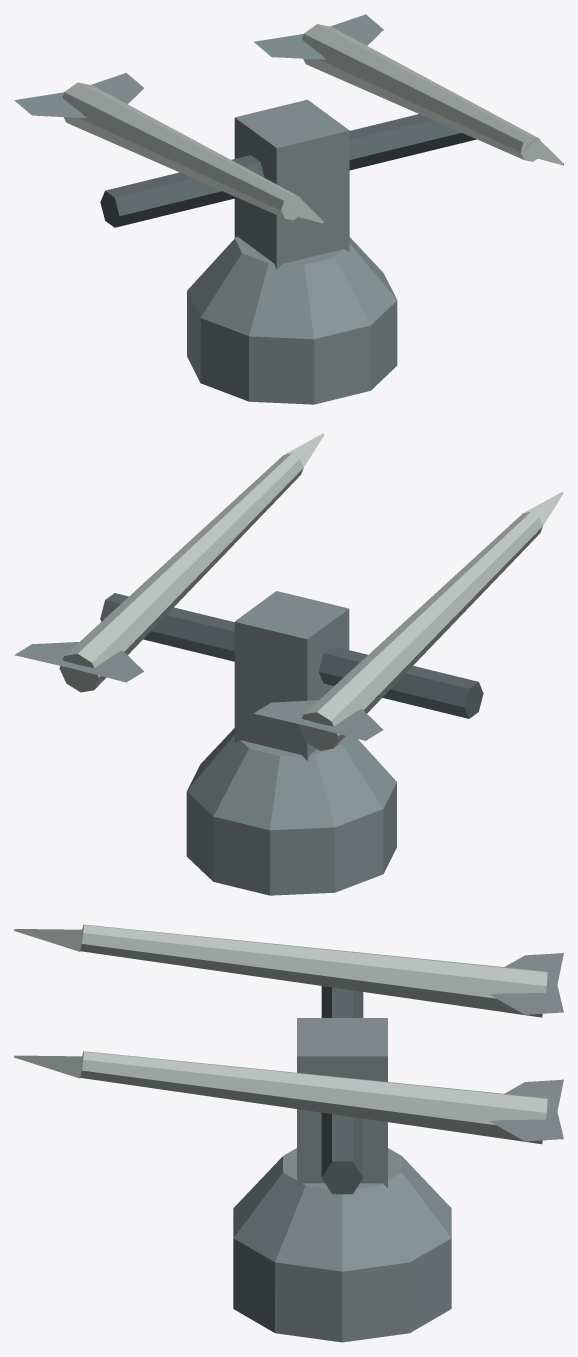
Rendered from mount_sam_box.glb.
3 views of the same model, one above another, from view 1: azimuth 30°, elevation 25°; view 2: azimuth 150°, elevation 25°; view 3: azimuth 270°, elevation 25° (orthographic). The views are drawn at different scales.
Parts seen in each view (by area): view 1: MESH_SLAVA_TEMPLATE_sam; view 2: MESH_SLAVA_TEMPLATE_sam; view 3: MESH_SLAVA_TEMPLATE_sam.
Boxes of the visible parts, x1,y1,x2,y2 form: MESH_SLAVA_TEMPLATE_sam: (14,14,563,404); MESH_SLAVA_TEMPLATE_sam: (14,433,563,895); MESH_SLAVA_TEMPLATE_sam: (14,924,563,1342).
Size of the model in its own units: 3.2 by 2.37 by 3.86.
Materials: 1 (1 with a texture image).
